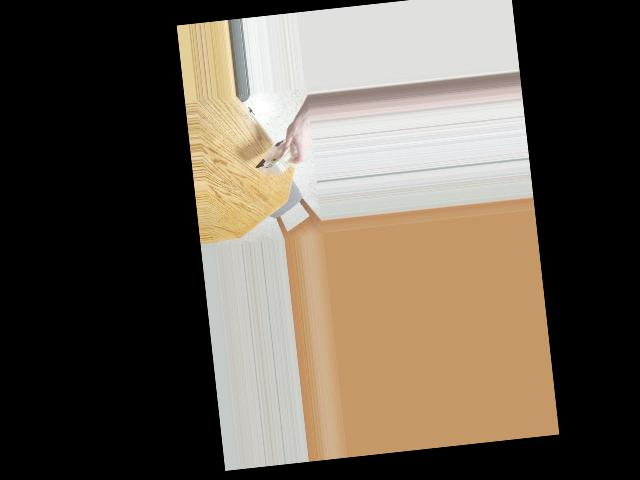cheese: (257, 132, 302, 186)
